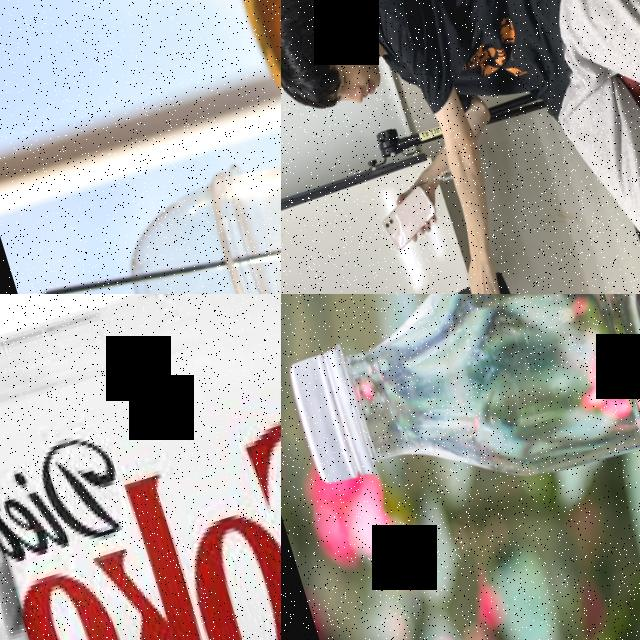bottle: (281, 294, 640, 554)
can: (0, 294, 281, 640)
cup: (106, 80, 281, 294)
